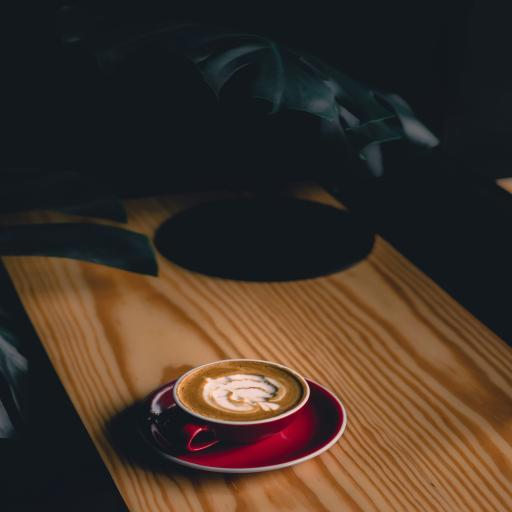cup: (172, 358, 312, 454)
